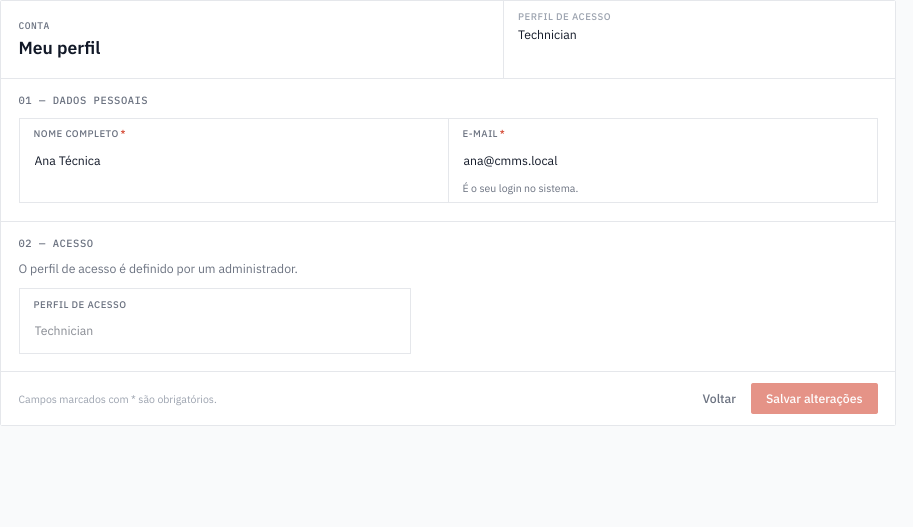
Test case: ProfilePage › deve validar o formato do e-mail antes de enviar
The image size is (913, 527).
Replace the text in the field labelled "E-mail" with "ana-sem-arroba": (662, 160) [462,144,862,176]
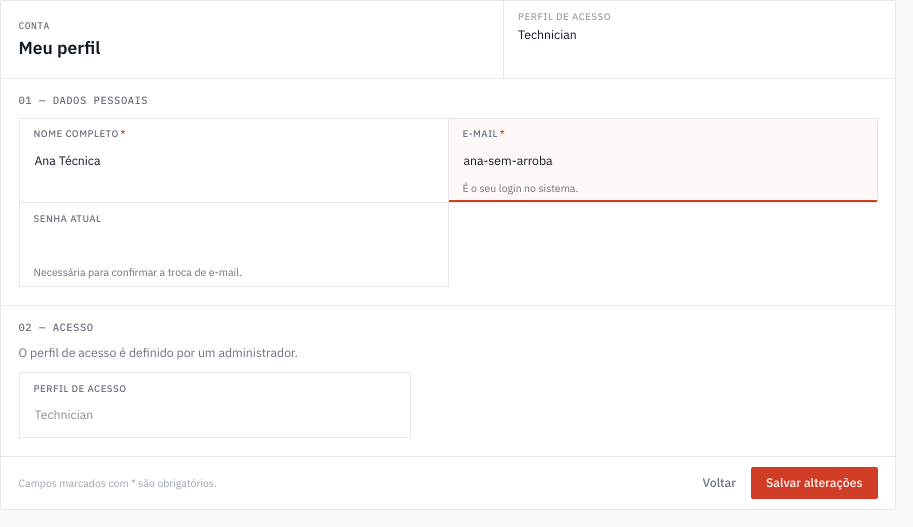
Click the button "Salvar alterações": (814, 483) [751,467,878,499]
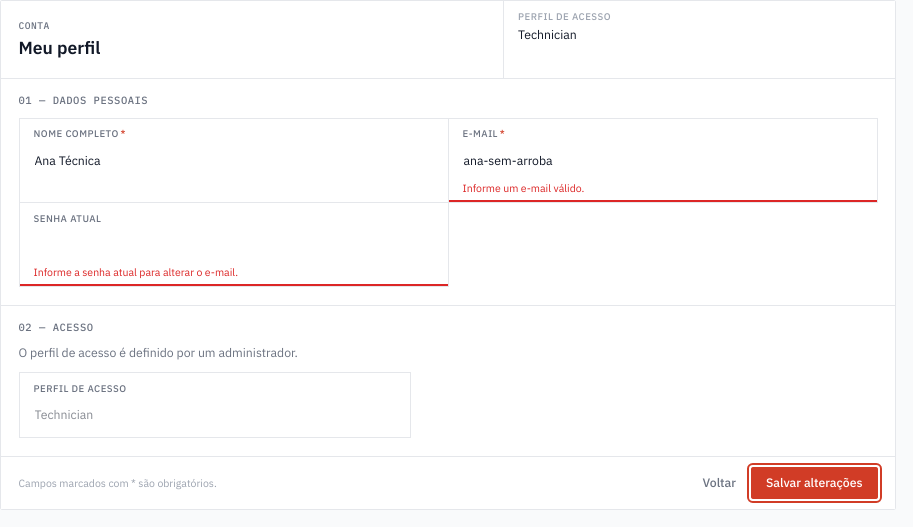
expect the text "Informe um e-mail válido." is shown: met, box [462,181,584,195]
